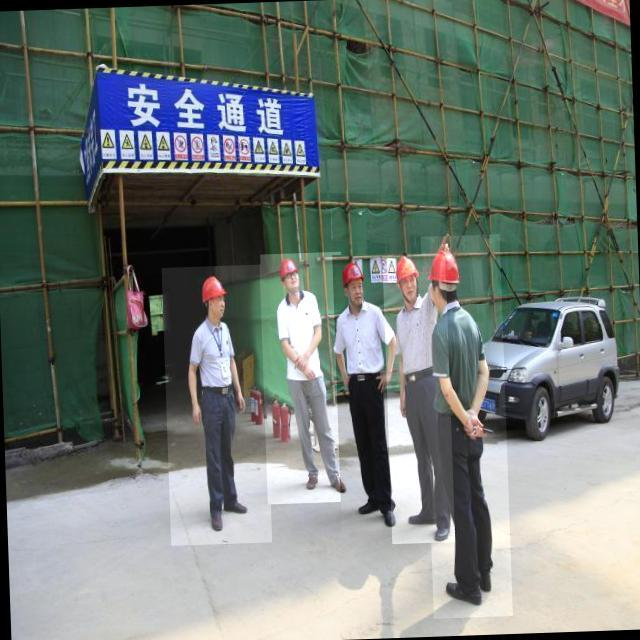Helmet: (427, 247, 462, 282), (203, 275, 229, 305), (395, 255, 419, 286), (342, 262, 364, 288), (278, 258, 300, 282)
Person: (428, 235, 509, 627), (163, 260, 264, 562), (263, 245, 352, 510), (395, 212, 462, 547), (329, 234, 396, 536)
Safety Boot: (446, 581, 484, 607), (225, 500, 250, 515), (330, 475, 348, 495), (357, 499, 379, 515), (408, 512, 435, 525), (212, 509, 226, 532), (434, 524, 450, 542), (383, 508, 397, 527), (305, 477, 319, 491)
bare-arms: (455, 402, 488, 450), (290, 349, 313, 392), (232, 379, 252, 413), (187, 398, 203, 433)
